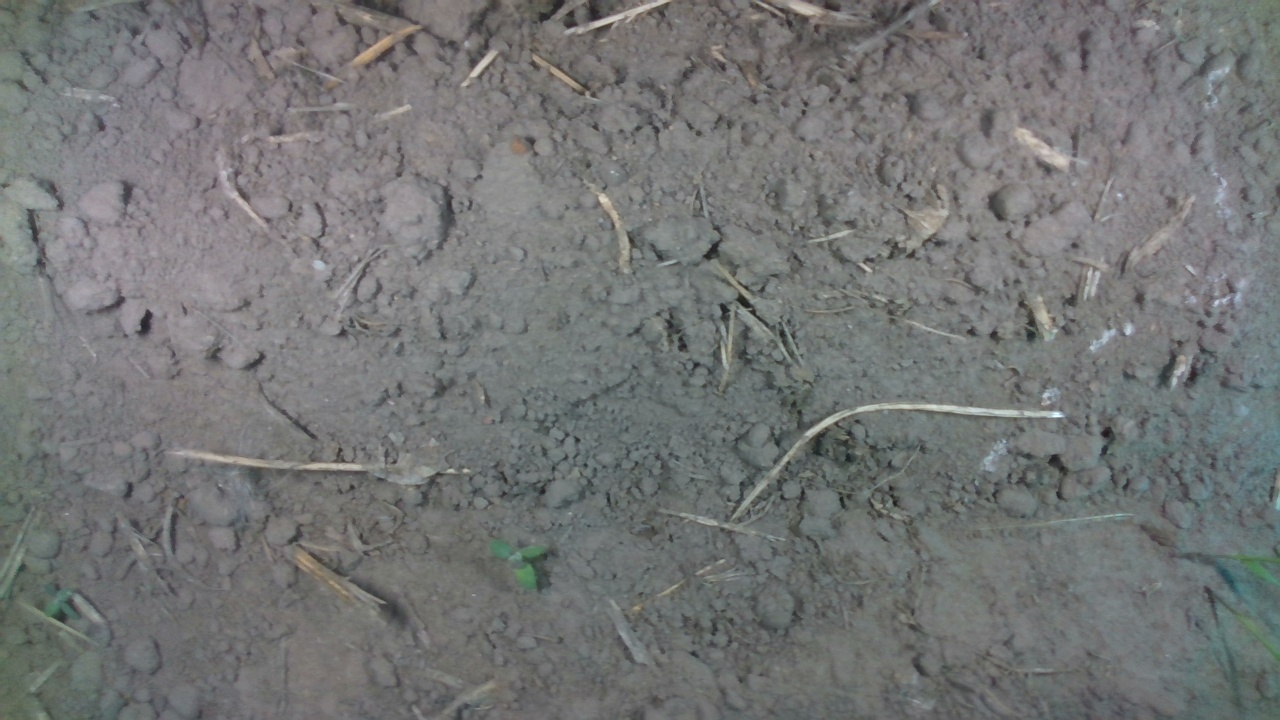weed: (484, 535, 552, 593)
